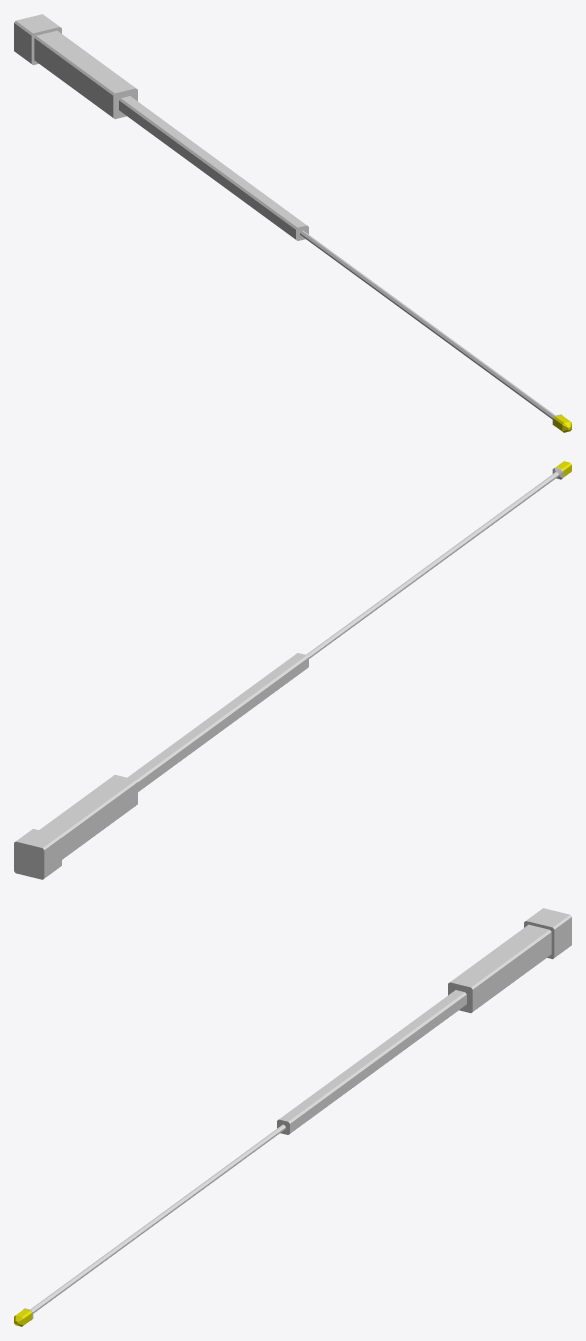
File: LightEmitter_Structure.fbx
The picture shows the model from 3 angles, top to bottom: view 1: azimuth 30°, elevation 25°; view 2: azimuth 150°, elevation 25°; view 3: azimuth 330°, elevation 25°; orthographic projection.
Visible parts, largest first — view 1: PositionLight; view 2: PositionLight; view 3: PositionLight.
Part boxes in pixels (box(x1,y1,x2,y2)): PositionLight: box(14, 14, 571, 432); PositionLight: box(14, 461, 571, 879); PositionLight: box(14, 908, 571, 1326).
Bounding box in the file's own units: 200 × 200 × 6166.
